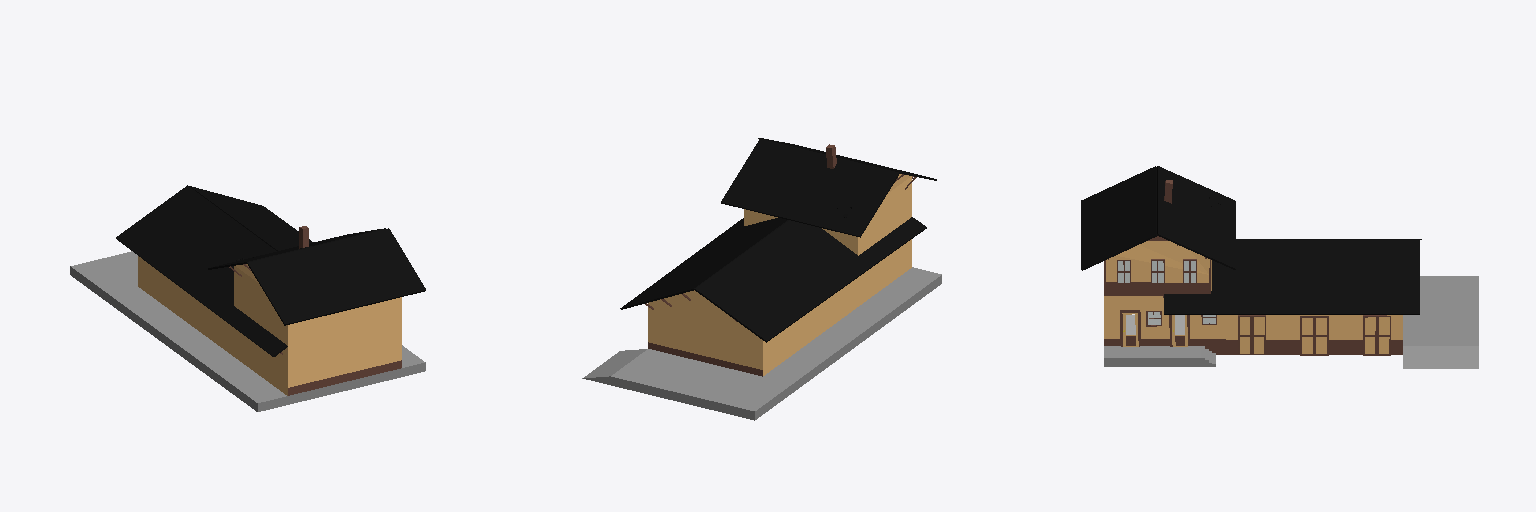
Rendered from house.obj.
3 renders of one model, left to right at view 1: azimuth 30°, elevation 25°; view 2: azimuth 150°, elevation 25°; view 3: azimuth 270°, elevation 25°, orthographic.
Visible parts, largest first — view 1: group[number redacted], group[number redacted], group[number redacted], group[number redacted], group[number redacted], group[number redacted]; view 2: group[number redacted], group[number redacted], group[number redacted], group[number redacted], group[number redacted]; view 3: group[number redacted], group[number redacted], group[number redacted], group[number redacted], group[number redacted], group[number redacted], group[number redacted], group[number redacted], group[number redacted], group[number redacted].
Part boxes in pixels (left/top/right/bottom): group[number redacted]: left=138, top=256, right=401, bottom=395; group[number redacted]: left=116, top=185, right=287, bottom=356; group[number redacted]: left=247, top=228, right=425, bottom=325; group[number redacted]: left=70, top=251, right=425, bottom=411; group[number redacted]: left=189, top=186, right=313, bottom=250; group[number redacted]: left=208, top=228, right=385, bottom=269; group[number redacted]: left=582, top=267, right=941, bottom=420; group[number redacted]: left=648, top=174, right=911, bottom=376; group[number redacted]: left=695, top=217, right=926, bottom=342; group[number redacted]: left=721, top=139, right=899, bottom=237; group[number redacted]: left=620, top=218, right=788, bottom=309; group[number redacted]: left=1164, top=239, right=1419, bottom=314; group[number redacted]: left=1104, top=236, right=1402, bottom=345; group[number redacted]: left=1104, top=276, right=1478, bottom=368; group[number redacted]: left=1081, top=166, right=1156, bottom=270; group[number redacted]: left=1157, top=166, right=1235, bottom=269; group[number redacted]: left=1300, top=316, right=1328, bottom=355; group[number redacted]: left=1363, top=315, right=1390, bottom=355; group[number redacted]: left=1238, top=315, right=1265, bottom=354; group[number redacted]: left=1120, top=310, right=1140, bottom=346; group[number redacted]: left=1169, top=315, right=1190, bottom=346.
Size of the model in its own units: 2.21 by 1.74 by 4.39.